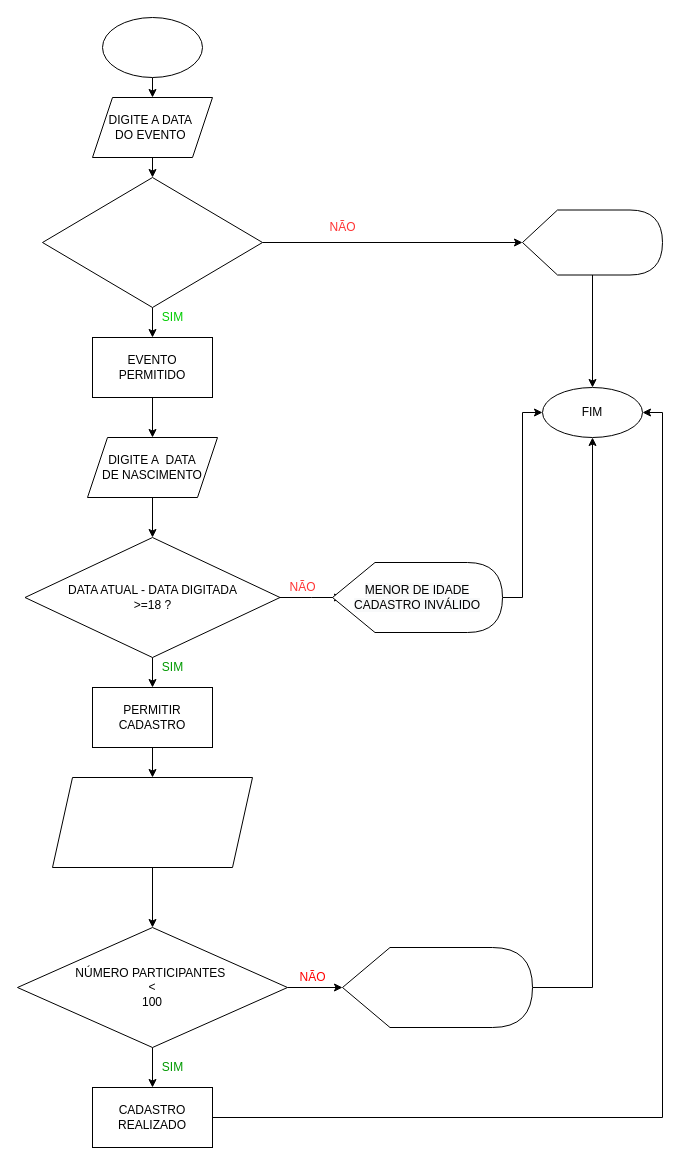
Image size: 688x1165. Some labels were removed from this diagram. The shapes that lost their labels are listed below. From the top down, each one's box as (x1, y1, x2, y2) in pixels, then its label:
(102, 16, 202, 78): INICIO
(42, 176, 262, 308): DATA DO EVENTO > DATA ATUAL ?
(522, 209, 662, 275): DATA INVÁLIDA CADASTRO NÃO PERMITIDO
(52, 776, 252, 868): LISTAR PARTICIPANTES E PALESTRANTES POR EVENTO
(342, 946, 532, 1028): CADASTRO NÃO PERMITIDO LIMITE EXCEDIDO
